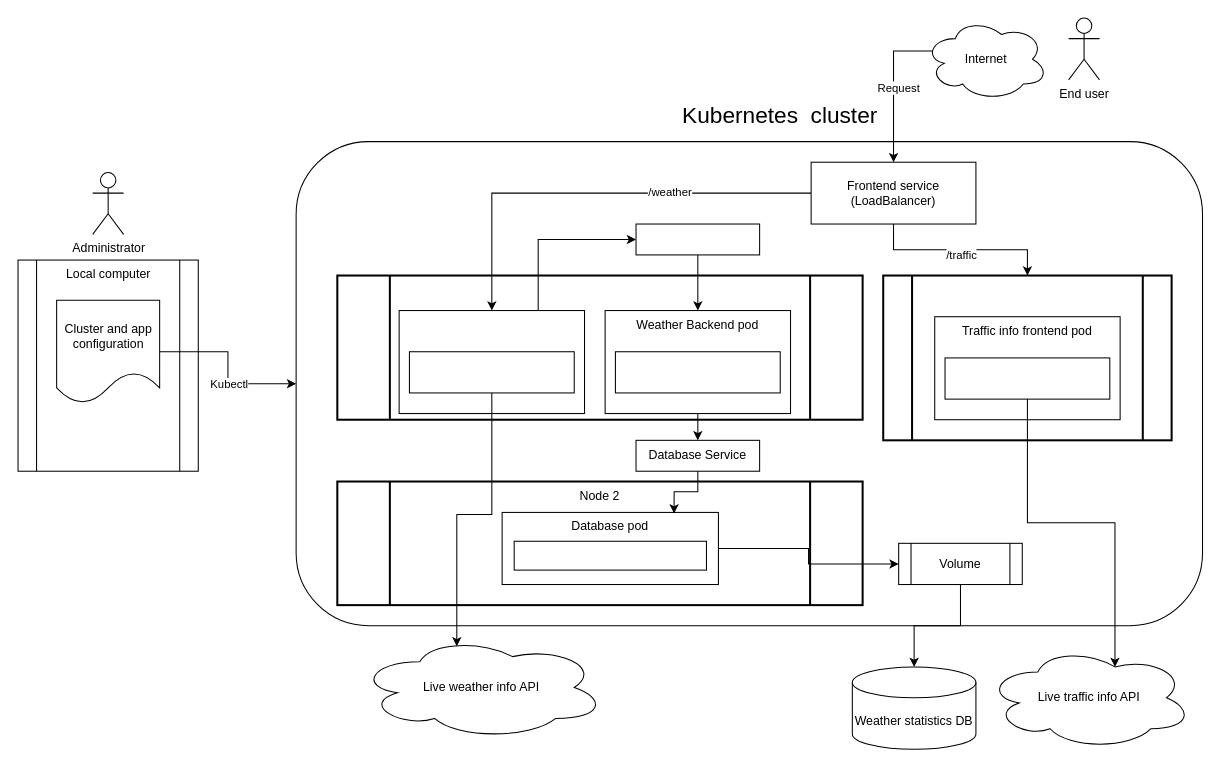
This 1221x767 diagram has some shape labels left out. Here are the shapes that lost their labels. From the top down, the box of each, then its label:
(635, 223, 760, 255): Backend Service
(398, 310, 585, 414): Weather Frontend pod
(336, 274, 863, 420): Node 1
(882, 274, 1172, 441): Node 3
(408, 351, 574, 393): Weather Frontend container
(614, 351, 780, 393): Weather Backend container
(944, 357, 1110, 399): Traffic info Frontend container
(513, 540, 706, 570): Postgres container
